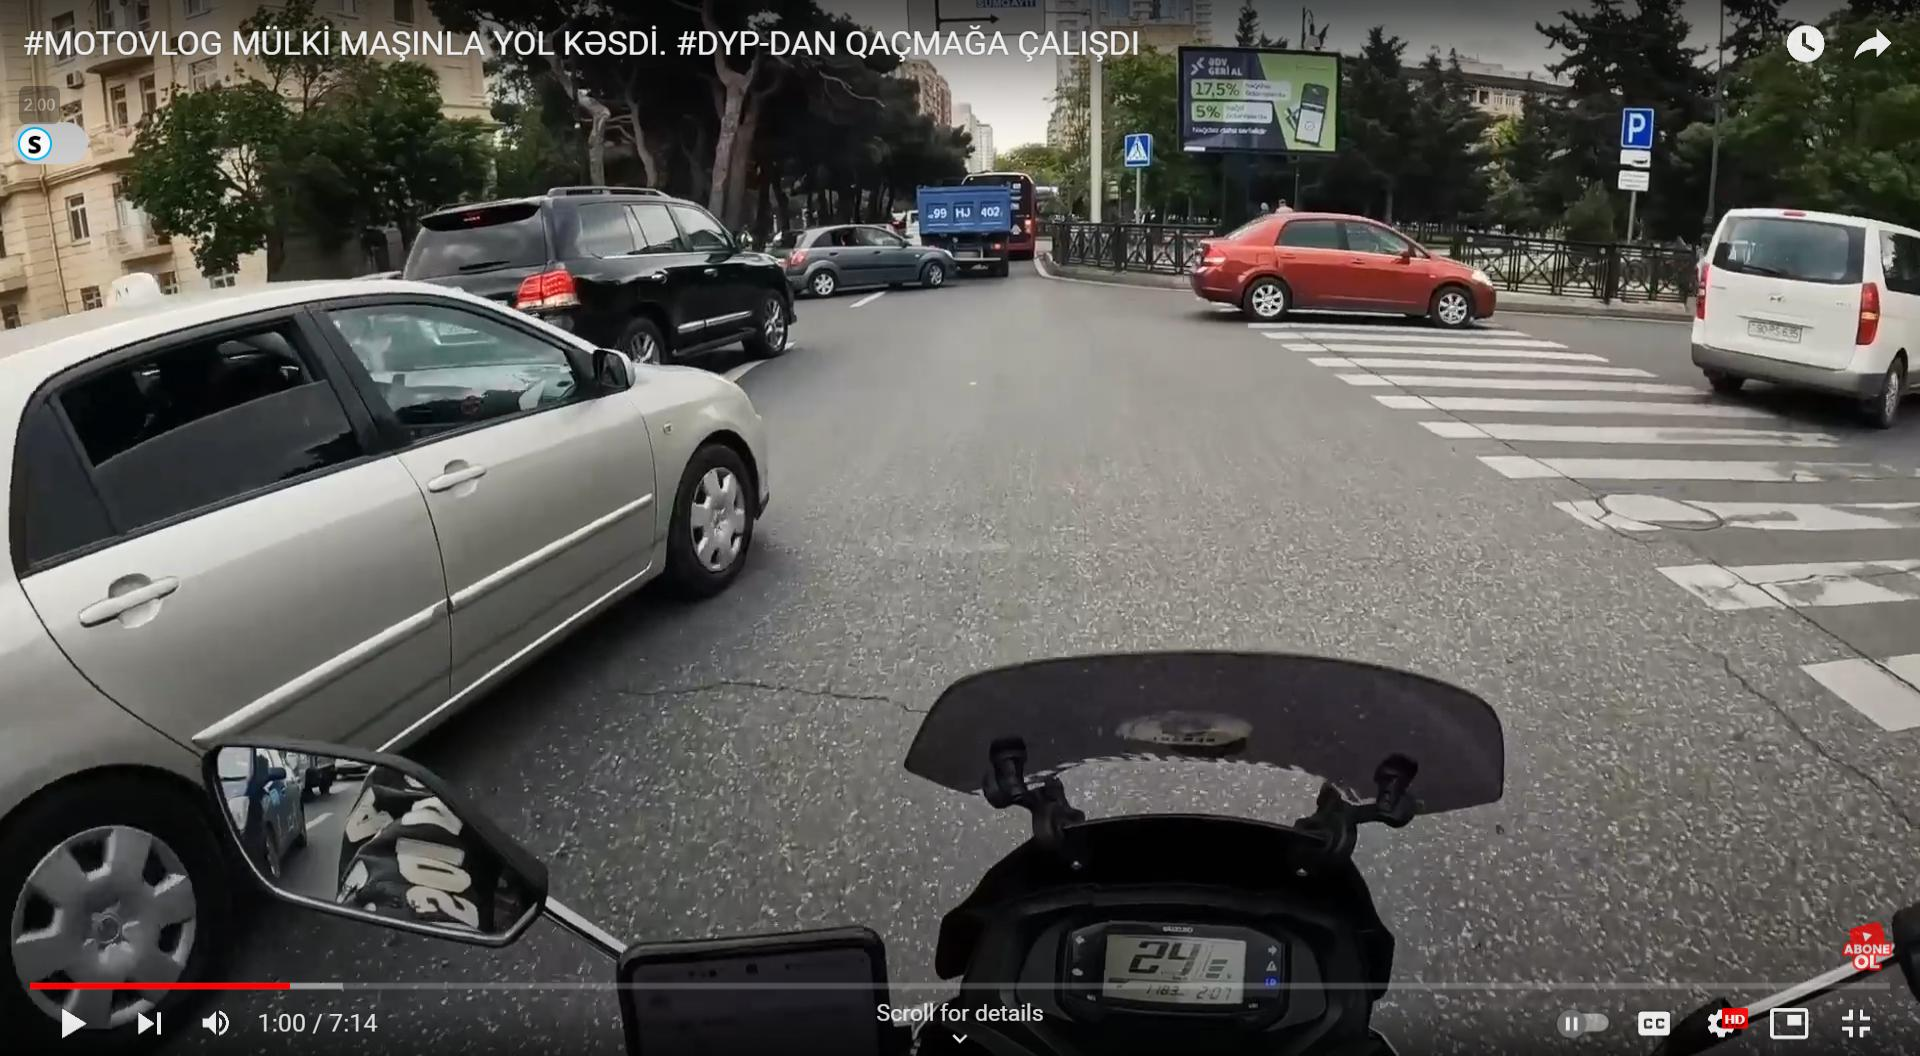banner: (1176, 42, 1343, 160)
